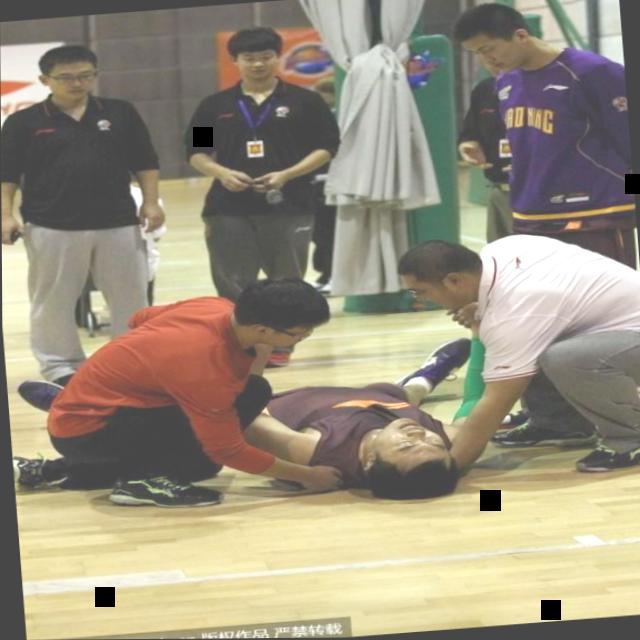Fall-Detected: (238, 335, 496, 516)
